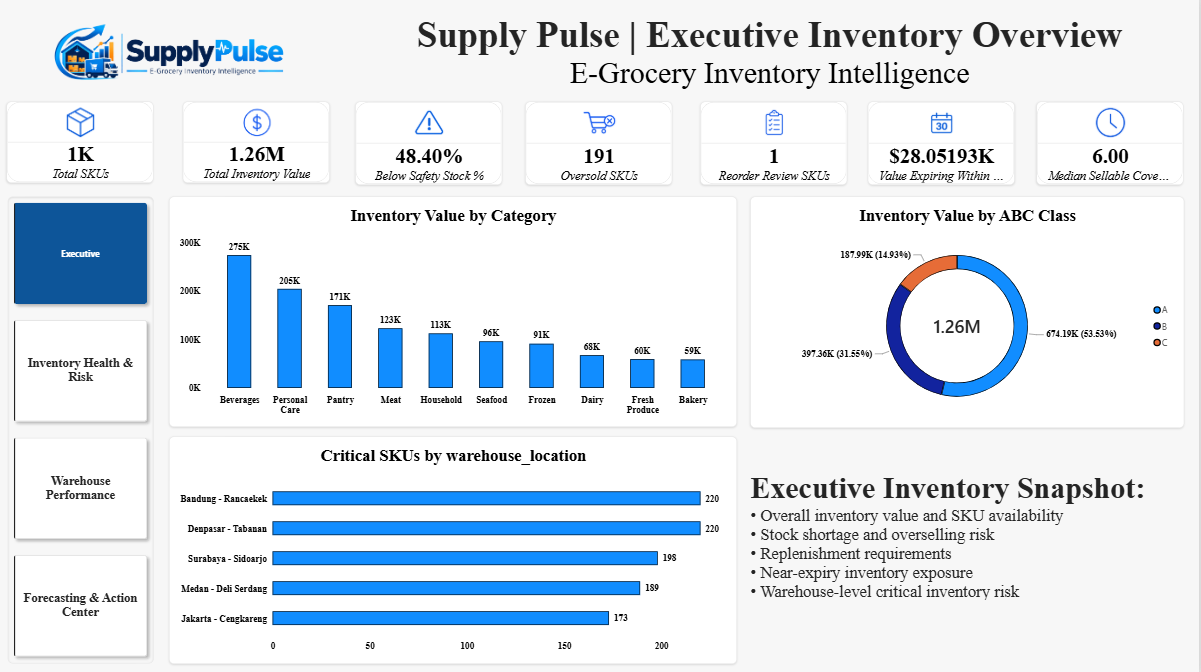

The dashboard page shown, as its layout file describes it:
{"tool":"powerbi","page":{"name":"Executive","canvas":[1920,1080],"ordinal":0},"visuals":[{"type":"cardVisual","fields":{"Data":["Fact_Inventory.Total SKUs"]},"box":[12.7,164.7,235.3,130.3],"z":0},{"type":"cardVisual","fields":{"Data":["Fact_Inventory.Total Inventory Value"]},"box":[293.2,164.7,235.3,130.3],"z":1000},{"type":"cardVisual","fields":{"Data":["Fact_Inventory.Below Safety Stock %"]},"box":[570,164.7,235.3,133.9],"z":2000},{"type":"cardVisual","fields":{"Data":["Fact_Inventory.Oversold SKUs"]},"box":[841.5,164.7,235.3,133.9],"z":3000},{"type":"cardVisual","fields":{"Data":["Fact_Inventory.Reorder Review SKUs"]},"box":[1122,164.7,235.3,133.9],"z":4000},{"type":"cardVisual","fields":{"Data":["Fact_Inventory.Value Expiring Within 30 Days"]},"box":[1389.8,164.7,235.3,133.9],"z":5000},{"type":"cardVisual","fields":{"Data":["Fact_Inventory.Median Sellable Coverage Days"]},"box":[1659.5,164.7,235.3,133.9],"z":6000},{"type":"image","box":[14,24,516,126],"z":7000},{"type":"textbox","box":[570,24,1326,126],"z":8000},{"type":"clusteredColumnChart","title":"Inventory Value by Category","fields":{"Category":["Dim_Product.category"],"Y":["Sum(Fact_Inventory.total_inventory_value_usd)"]},"box":[271.4,316.7,908.4,369.2],"z":9000},{"type":"donutChart","title":"Inventory Value by ABC Class","fields":{"Category":["Dim_Product.abc_class"],"Y":["Sum(Fact_Inventory.total_inventory_value_usd)"]},"box":[1202,316,694,370],"z":10000},{"type":"clusteredBarChart","fields":{"Category":["Dim_Warehouse.warehouse_location"],"Y":["Fact_Inventory.Critical SKUs"]},"box":[271.4,700.3,908.4,363.7],"z":11000},{"type":"textbox","box":[1201.6,700.3,694.9,363.7],"z":12000},{"type":"pageNavigator","box":[14.5,316.7,233.4,747.4],"z":13000}]}

Visuals, with their boxes in screenshot pixels (x1, y1, x2, y2), scaled from the page's 1920x1080 canvas onto the 1201x672 screenshot:
cardVisual - Fact_Inventory.Total SKUs: {"left": 8, "top": 102, "right": 155, "bottom": 184}
cardVisual - Fact_Inventory.Total Inventory Value: {"left": 183, "top": 102, "right": 331, "bottom": 184}
cardVisual - Fact_Inventory.Below Safety Stock %: {"left": 357, "top": 102, "right": 504, "bottom": 186}
cardVisual - Fact_Inventory.Oversold SKUs: {"left": 526, "top": 102, "right": 674, "bottom": 186}
cardVisual - Fact_Inventory.Reorder Review SKUs: {"left": 702, "top": 102, "right": 849, "bottom": 186}
cardVisual - Fact_Inventory.Value Expiring Within 30 Days: {"left": 869, "top": 102, "right": 1017, "bottom": 186}
cardVisual - Fact_Inventory.Median Sellable Coverage Days: {"left": 1038, "top": 102, "right": 1185, "bottom": 186}
image: {"left": 9, "top": 15, "right": 332, "bottom": 93}
textbox: {"left": 357, "top": 15, "right": 1186, "bottom": 93}
"Inventory Value by Category" clusteredColumnChart: {"left": 170, "top": 197, "right": 738, "bottom": 427}
"Inventory Value by ABC Class" donutChart: {"left": 752, "top": 197, "right": 1186, "bottom": 427}
clusteredBarChart - Dim_Warehouse.warehouse_location x Fact_Inventory.Critical SKUs: {"left": 170, "top": 436, "right": 738, "bottom": 662}
textbox: {"left": 752, "top": 436, "right": 1186, "bottom": 662}
pageNavigator: {"left": 9, "top": 197, "right": 155, "bottom": 662}
